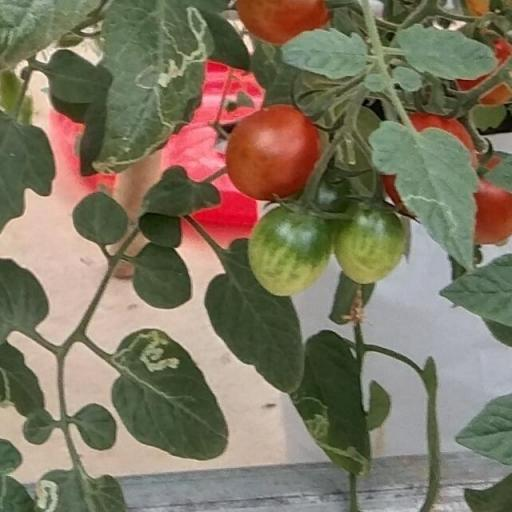disease_tomato: (88, 0, 220, 184), (368, 118, 481, 274), (109, 324, 231, 464), (289, 326, 376, 482)
